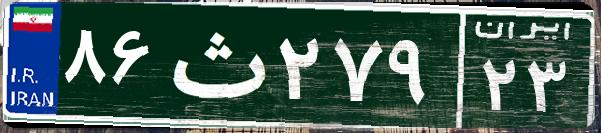2: (273, 28, 330, 110), (475, 38, 525, 113)
3: (525, 38, 570, 115)
6: (110, 28, 158, 105)
7: (330, 28, 385, 110)
8: (57, 26, 110, 107)
9: (385, 28, 445, 110)
ث: (158, 15, 273, 115)
